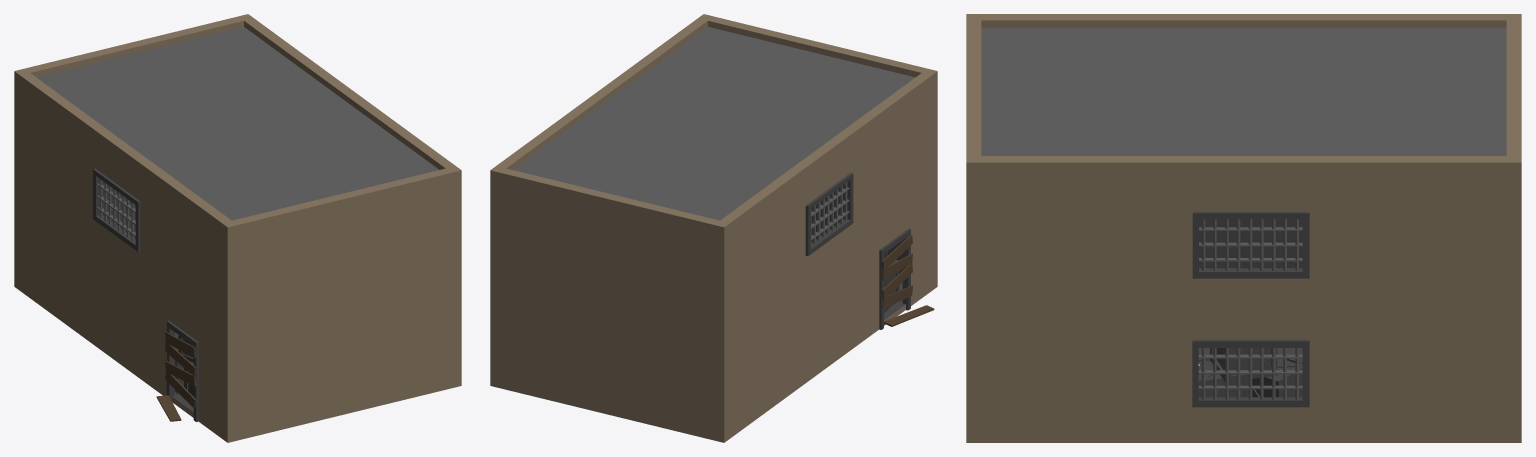
File: ClosedBuilding2.fbx
The picture shows the model from 3 angles, left to right: view 1: azimuth 30°, elevation 25°; view 2: azimuth 150°, elevation 25°; view 3: azimuth 270°, elevation 25°; orthographic projection. The views are drawn at different scales.
Parts seen in each view (by area): view 1: ClosedBuilding2_LOD0; view 2: ClosedBuilding2_LOD0; view 3: ClosedBuilding2_LOD0.
Boxes of the visible parts, x1,y1,x2,y2 form: ClosedBuilding2_LOD0: (14,14,461,442); ClosedBuilding2_LOD0: (490,14,937,442); ClosedBuilding2_LOD0: (966,14,1521,442).
Size of what is drawn, in the model's own units: 1514 by 1184 by 2126.
1 material, 1 textured.
